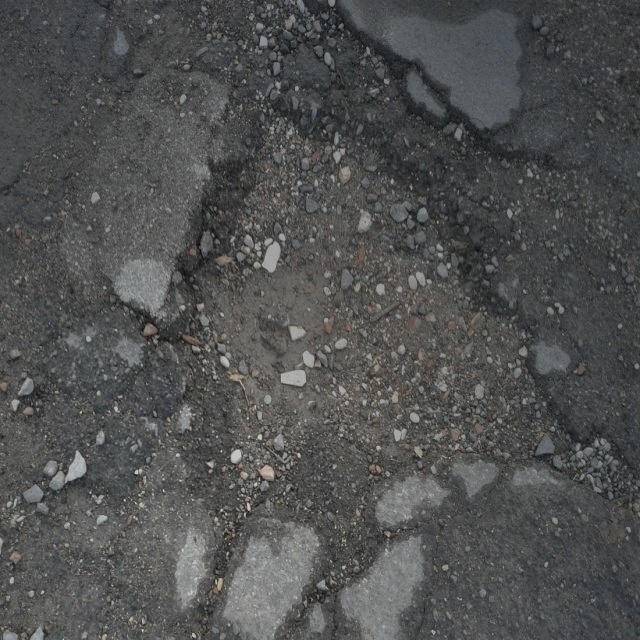pothole: (164, 89, 562, 538)
